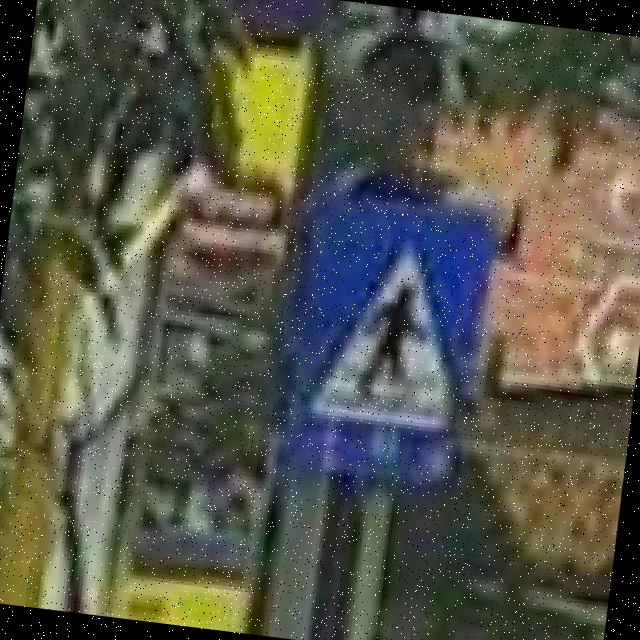Przejscie dla pieszych: (280, 185, 497, 488)
